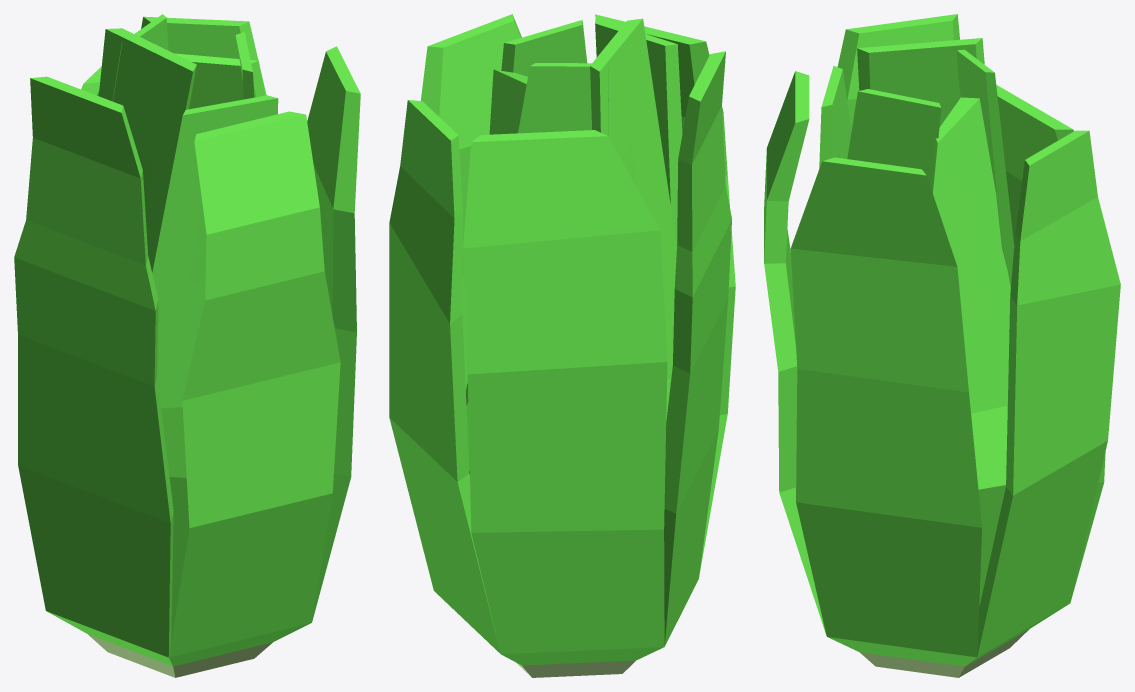
File: lettuce01.obj
3 views of the same model, side by side, from view 1: azimuth 30°, elevation 25°; view 2: azimuth 150°, elevation 25°; view 3: azimuth 270°, elevation 25° (orthographic). The views are drawn at different scales.
Visible parts, largest first — view 1: Cylinder.001_Cylinder; view 2: Cylinder.001_Cylinder; view 3: Cylinder.001_Cylinder.
Part boxes in pixels (x1=…): Cylinder.001_Cylinder: x1=14, y1=14, x2=360, y2=677; Cylinder.001_Cylinder: x1=389, y1=14, x2=735, y2=677; Cylinder.001_Cylinder: x1=764, y1=14, x2=1120, y2=677.
Bounding box in the file's own units: 0.071 × 0.1394 × 0.077.
1 material, 1 textured.
